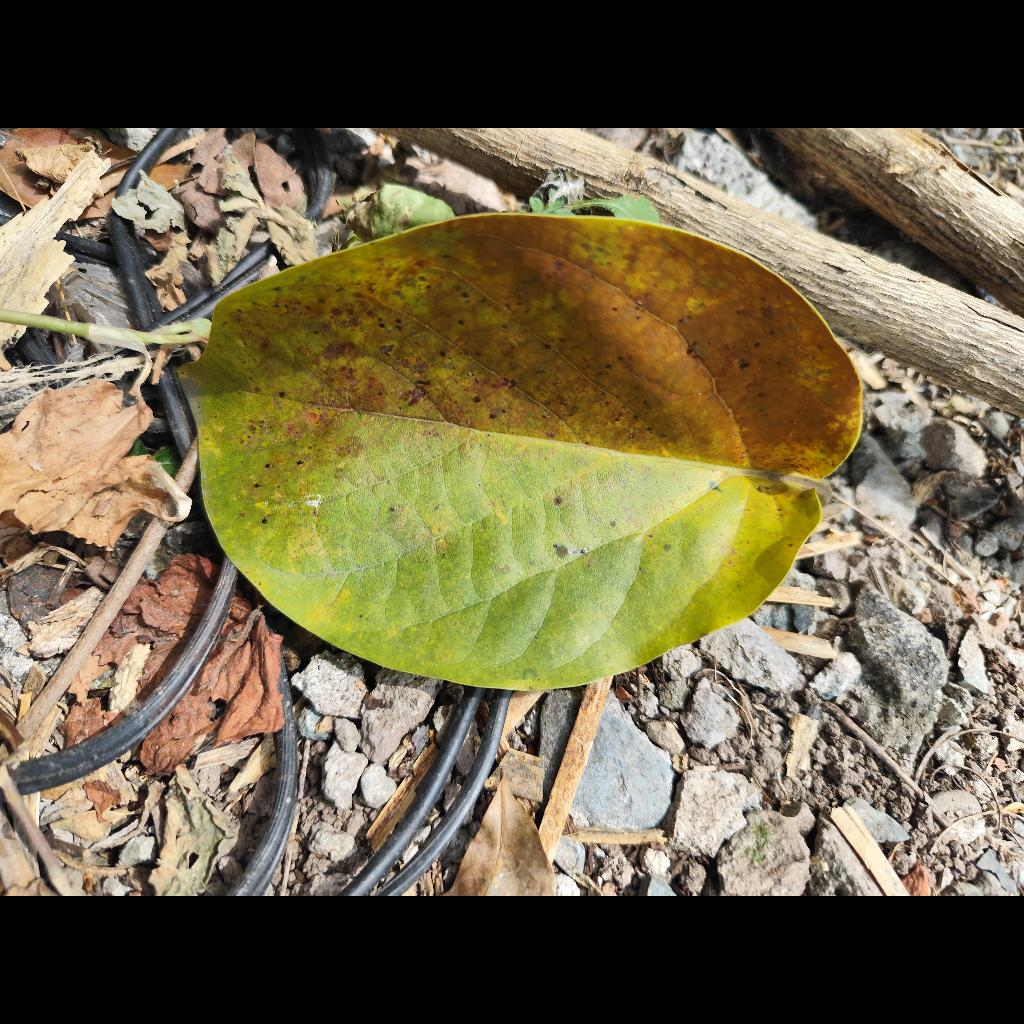nutrient_deficiency: (180, 214, 860, 688)
